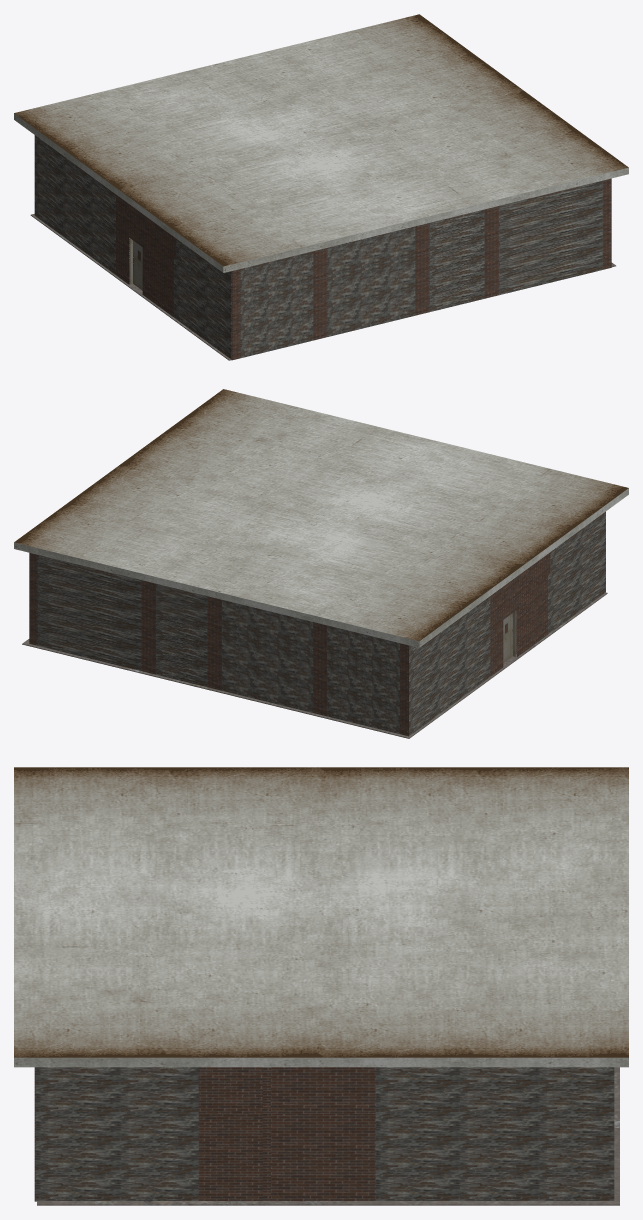
Rendered from jianyu.fbx.
The picture shows the model from 3 angles, top to bottom: view 1: azimuth 30°, elevation 25°; view 2: azimuth 150°, elevation 25°; view 3: azimuth 270°, elevation 25°; orthographic projection. The views are drawn at different scales.
Visible parts, largest first — view 1: tianhuaban, polySurface151, Floor; view 2: tianhuaban, polySurface151, Floor; view 3: tianhuaban, polySurface151, Floor.
Part boxes in pixels (x1,y1,x2,y2): tianhuaban: [14, 14, 628, 272]; polySurface151: [34, 135, 611, 360]; Floor: [30, 214, 615, 360]; tianhuaban: [14, 389, 628, 647]; polySurface151: [29, 511, 605, 736]; Floor: [22, 592, 607, 738]; tianhuaban: [14, 767, 628, 1067]; polySurface151: [34, 1067, 614, 1201]; Floor: [37, 1067, 619, 1205].
Size of the model in its own units: 20.02 by 4.87 by 17.91.
Materials: 9 (8 with a texture image).
